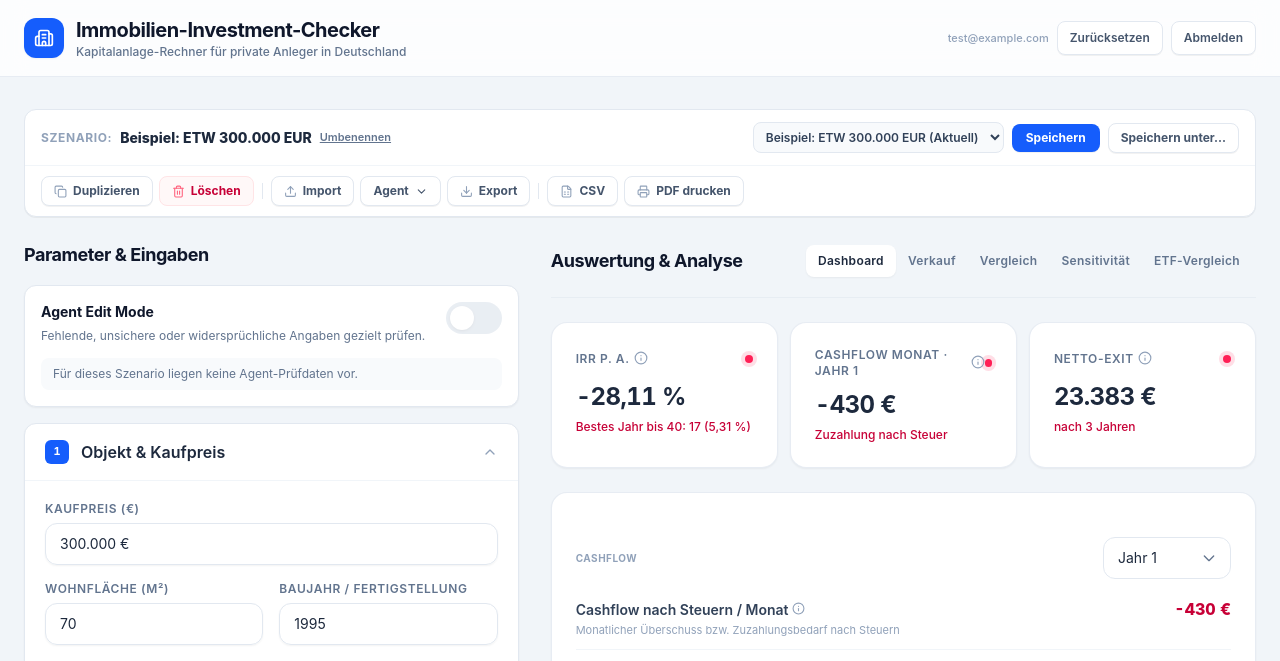
Test case: Dashboard-Jahresauswahl › vergleicht das beste Exit-Jahr unabhängig von der gewählten Haltedauer bis Jahr 40
This screenshot has width=1280, height=661.
What coordinates should you click on to do the following:
click the button "Verkauf"
I would click on:
 (932, 261)
Its box is [896,245,968,277].
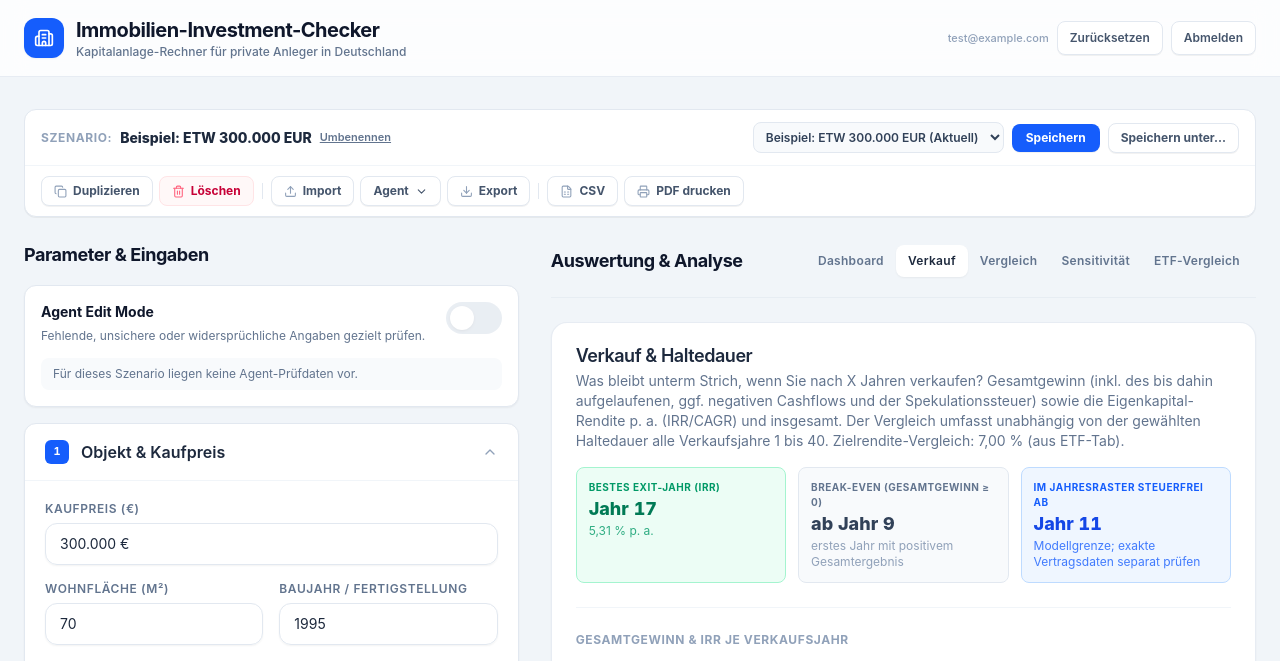
Check: the text "alle Verkaufsjahre 1 bis 40" is shown, box [576,371,1231,451]
